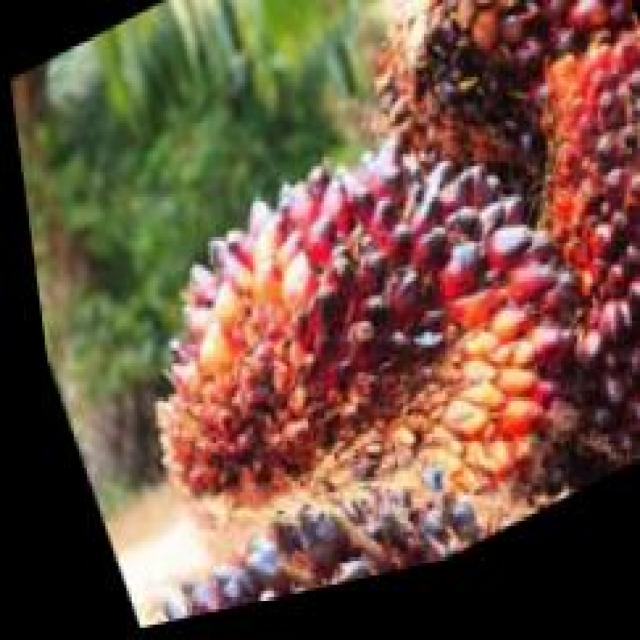Ripefruit: (80, 76, 607, 630), (492, 36, 640, 498), (337, 0, 640, 225), (102, 454, 460, 632)
